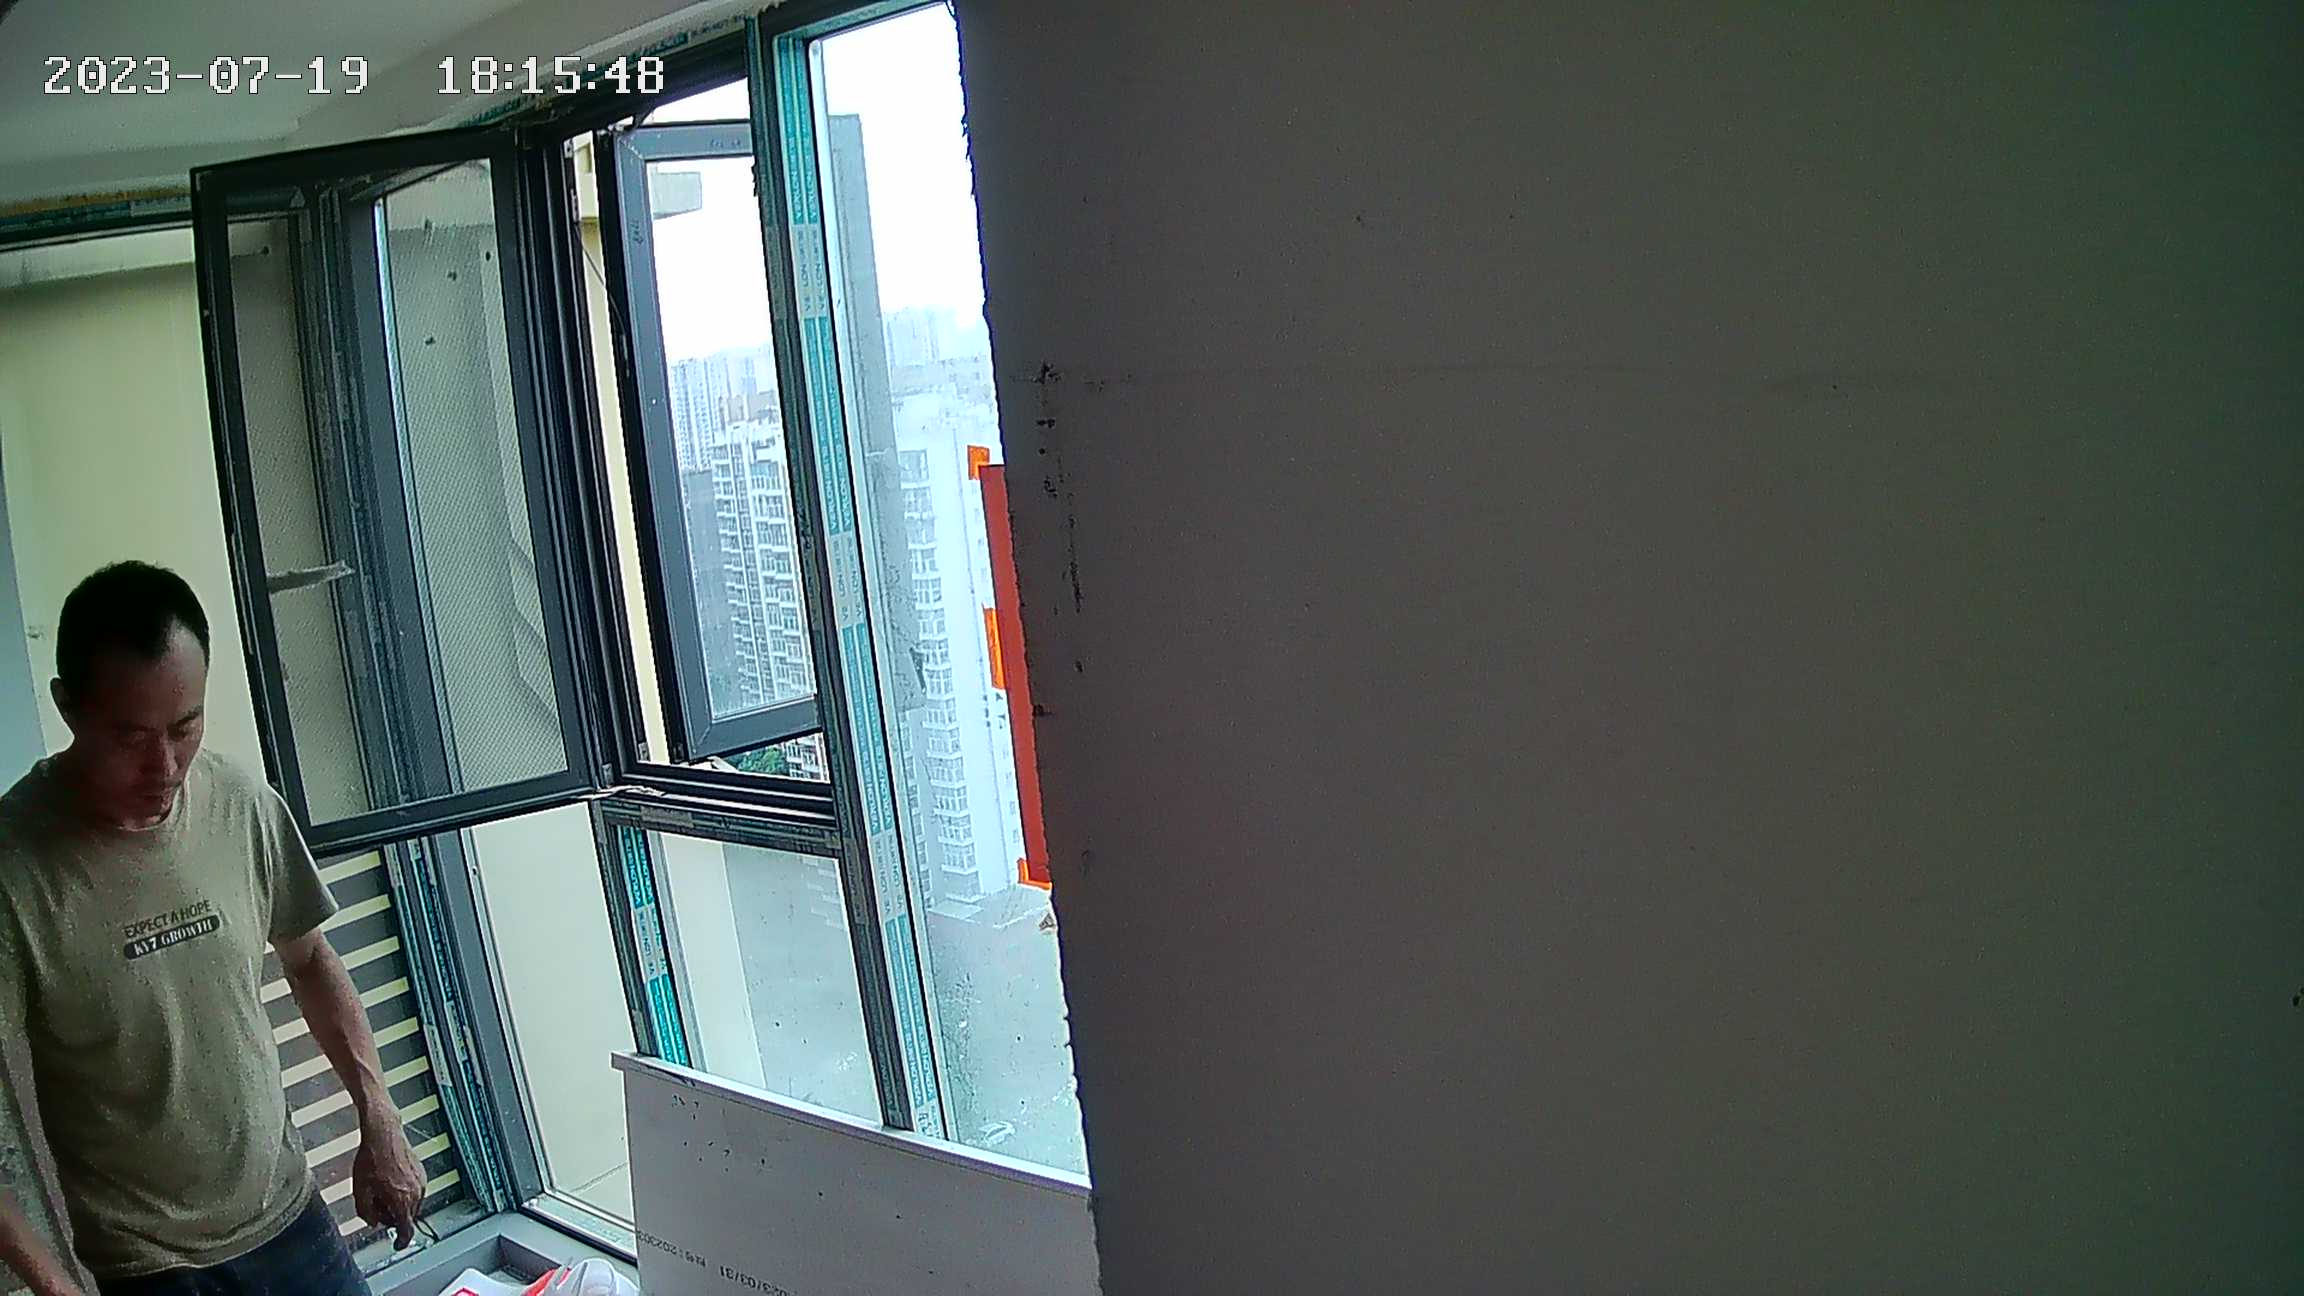people: (5, 575, 421, 1296)
window: (11, 85, 1089, 1287)
